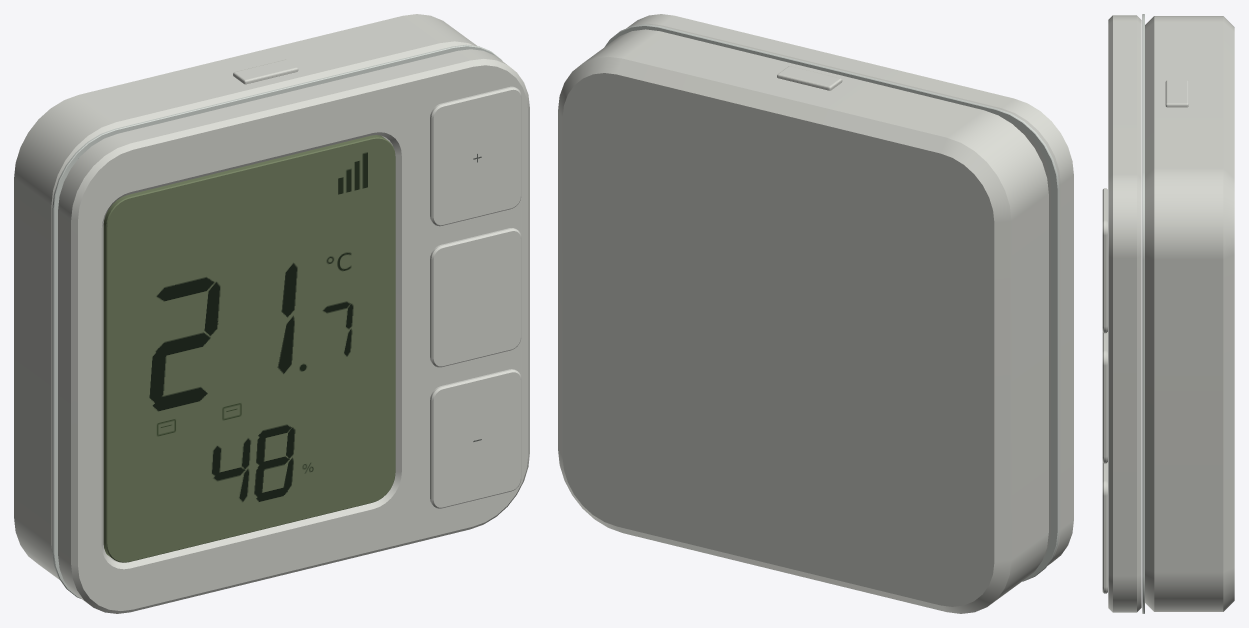
The model's file is 02_Zigbee_Temperature_LCD.glb.
3 views of the same model, side by side, from view 1: azimuth 30°, elevation 25°; view 2: azimuth 150°, elevation 25°; view 3: azimuth 270°, elevation 25° (orthographic). The views are drawn at different scales.
Visible parts, largest first — view 1: LCD_Display, Front_Rounded_Bezel, Rear_Cover, Button_2_Mode, Button_3_Minus, Button_1_Plus, Bezel_Seam_Trim, Top_Pairing_Button; view 2: Rear_Cover, Front_Rounded_Bezel, Bezel_Seam_Trim, Top_Pairing_Button; view 3: Rear_Cover, Front_Rounded_Bezel, Bezel_Seam_Trim, Button_1_Plus, Button_2_Mode, Button_3_Minus, Top_Pairing_Button.
Boxes of the visible parts, x1,y1,x2,y2 form: LCD_Display: (103,135,395,562); Front_Rounded_Bezel: (58,49,529,613); Rear_Cover: (14,14,476,579); Button_2_Mode: (430,228,521,367); Button_3_Minus: (430,369,521,508); Button_1_Plus: (430,86,521,226); Bezel_Seam_Trim: (52,44,502,598); Top_Pairing_Button: (233,59,298,84); Rear_Cover: (558,29,1048,613); Front_Rounded_Bezel: (626,14,1073,565); Bezel_Seam_Trim: (605,24,1059,581); Top_Pairing_Button: (777,66,842,90); Rear_Cover: (1145,16,1234,611); Front_Rounded_Bezel: (1108,15,1141,612); Bezel_Seam_Trim: (1142,14,1144,613); Button_1_Plus: (1102,188,1107,333); Button_2_Mode: (1102,332,1107,463); Button_3_Minus: (1102,462,1107,593); Top_Pairing_Button: (1165,80,1188,107).
Bounding box in the file's own units: 0.0856 × 0.0846 × 0.023.
Materials: 5 (3 with a texture image).
